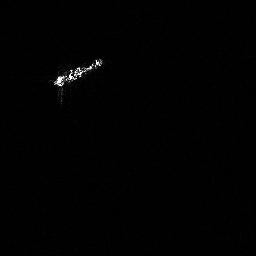ship: (48, 52, 107, 90)
